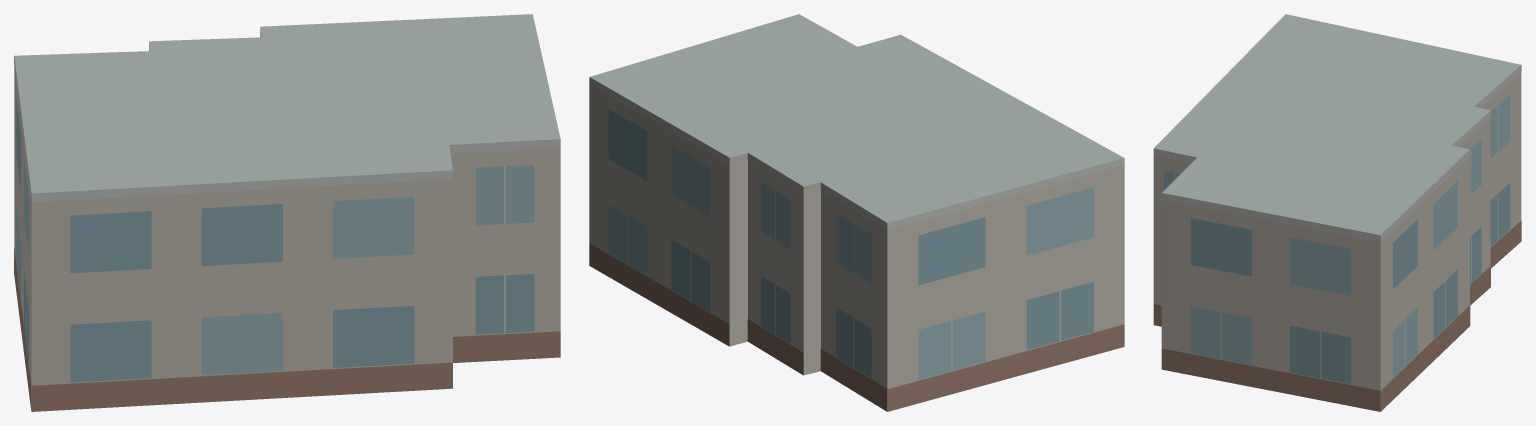
File: survey-upis-32702585.glb
3 renders of one model, left to right at view 1: azimuth 30°, elevation 25°; view 2: azimuth 150°, elevation 25°; view 3: azimuth 270°, elevation 25°, orthographic. The views are drawn at different scales.
Visible parts, largest first — view 1: survey-upis-32702585.tmp; view 2: survey-upis-32702585.tmp; view 3: survey-upis-32702585.tmp.
Boxes of the visible parts, x1,y1,x2,y2 form: survey-upis-32702585.tmp: [14, 14, 560, 411]; survey-upis-32702585.tmp: [589, 14, 1124, 411]; survey-upis-32702585.tmp: [1153, 14, 1521, 411].
Size of the model in its own units: 16.39 by 6.1 by 11.52.
